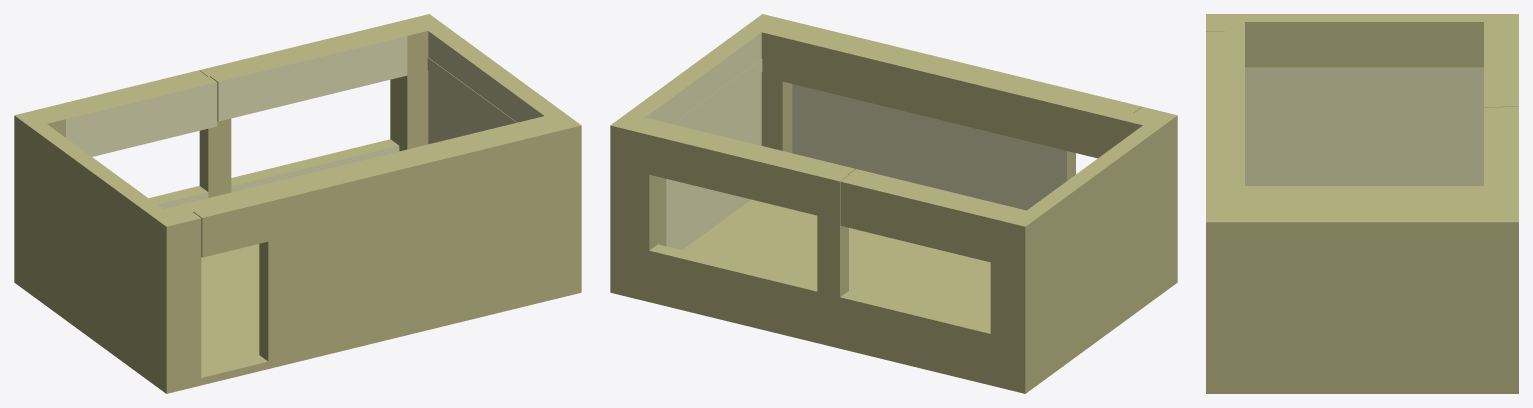
Rendered from museo.glb.
3 views of the same model, side by side, from view 1: azimuth 30°, elevation 25°; view 2: azimuth 150°, elevation 25°; view 3: azimuth 270°, elevation 25° (orthographic). The views are drawn at different scales.
Visible parts, largest first — view 1: Cube; view 2: Cube; view 3: Cube.
Part boxes in pixels (x1,y1,x2,y2): Cube: (14, 14, 581, 393); Cube: (610, 14, 1177, 393); Cube: (1206, 14, 1518, 393).
Size of the model in its own units: 3.74 by 1.44 by 2.38.
